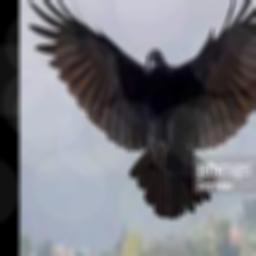Crow: (27, 0, 256, 218)
